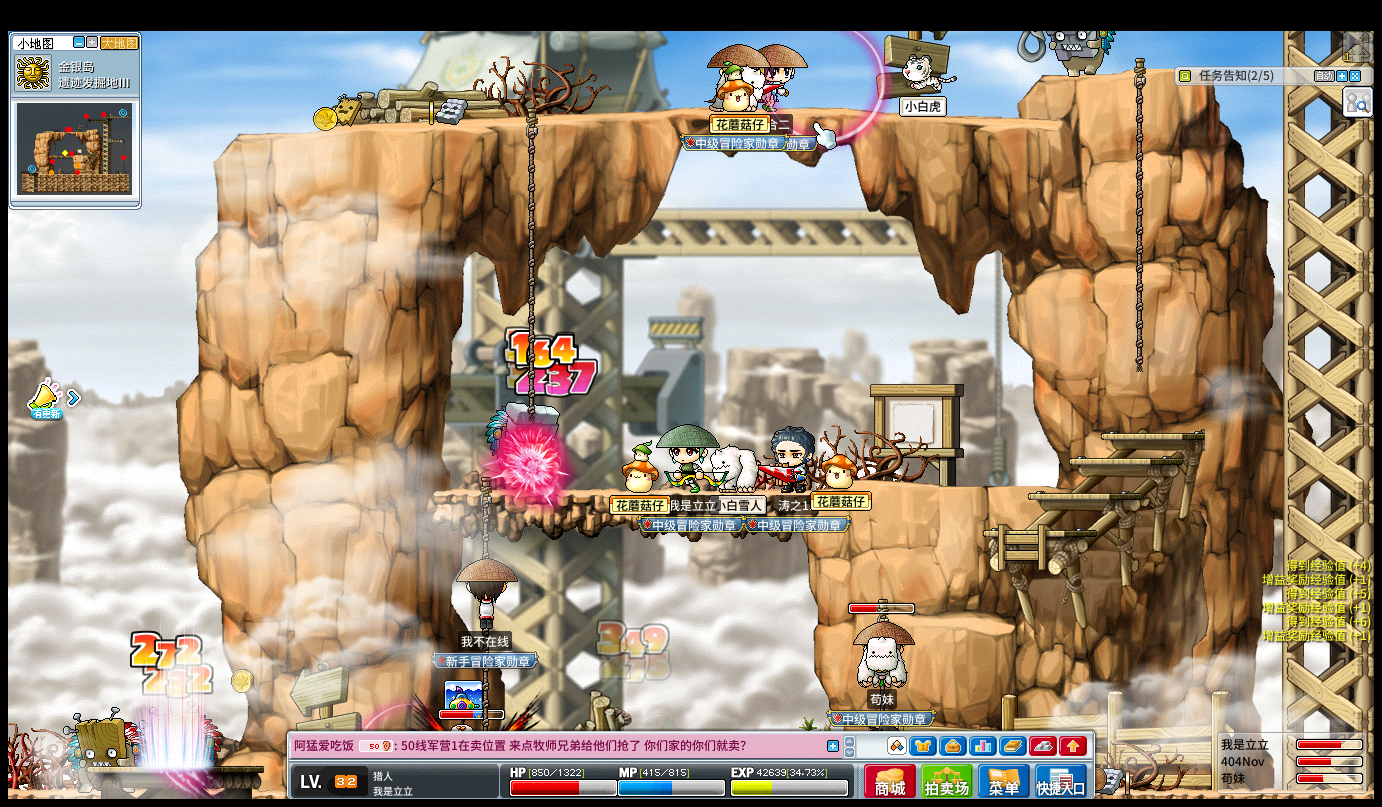floor: (225, 101, 1091, 139), (430, 487, 811, 498), (908, 612, 1015, 634), (1034, 66, 1170, 79), (1040, 68, 1171, 81), (893, 482, 1058, 492), (1100, 429, 1205, 441), (1064, 456, 1179, 464), (1028, 492, 1141, 500), (984, 528, 1095, 536)
monster: (483, 402, 561, 484), (64, 710, 142, 788)
rope: (1131, 56, 1147, 373), (525, 100, 536, 413), (476, 482, 492, 560)
